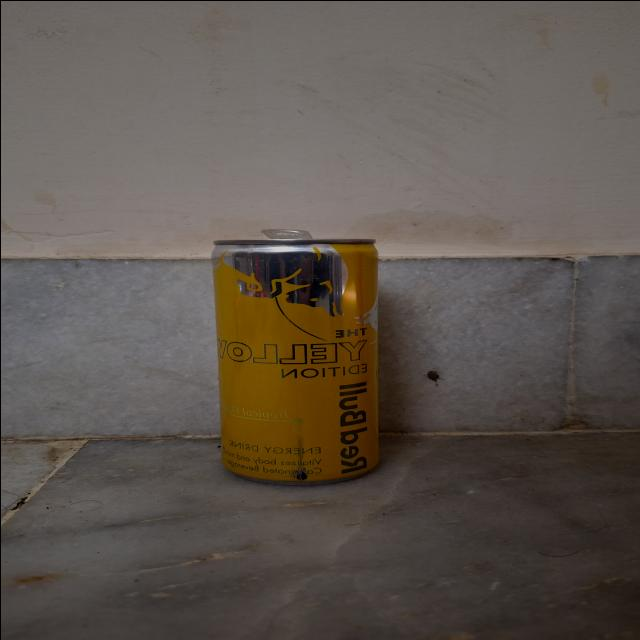Redbull Yellow Edition: (200, 228, 394, 482)
